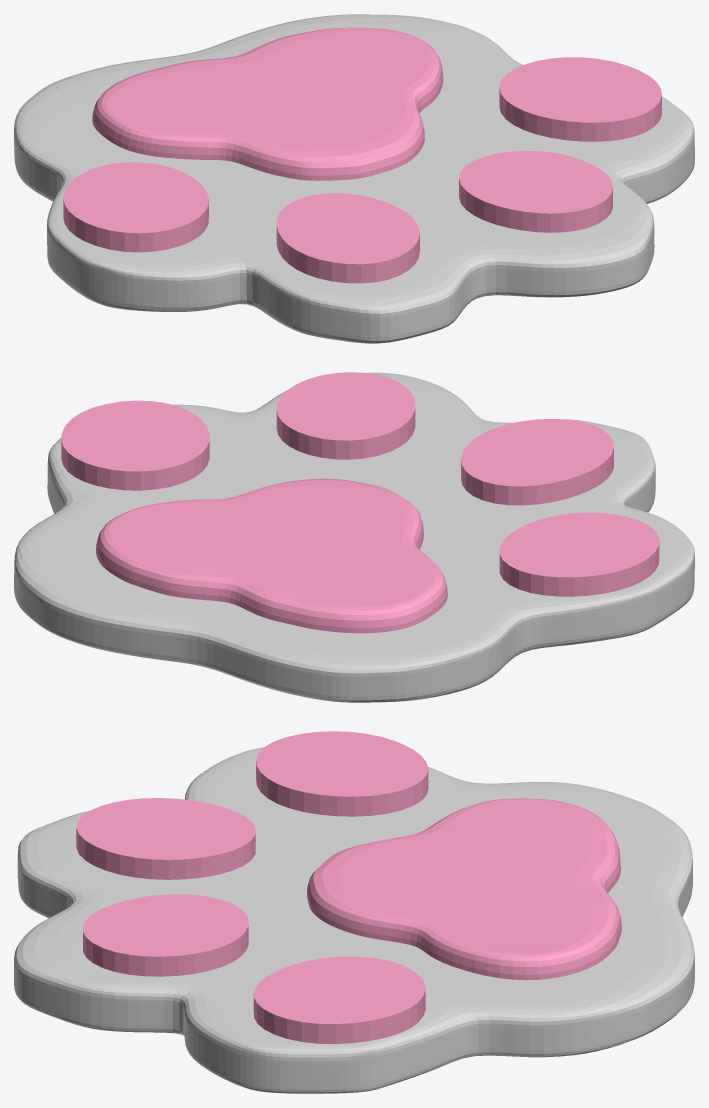
Rendered from paw.glb.
The picture shows the model from 3 angles, top to bottom: view 1: azimuth 30°, elevation 25°; view 2: azimuth 150°, elevation 25°; view 3: azimuth 270°, elevation 25°; orthographic projection. The views are drawn at different scales.
Parts seen in each view (by area): view 1: paw, Circle.001; view 2: paw, Circle.001; view 3: paw, Circle.001.
Boxes of the visible parts, x1,y1,x2,y2 form: paw: (14,14,694,343); Circle.001: (63,27,661,283); paw: (14,372,694,702); Circle.001: (61,372,659,633); paw: (14,747,694,1093); Circle.001: (76,731,621,1044).
Bounding box in the file's own units: 0.4301 × 0.0423 × 0.4005.
